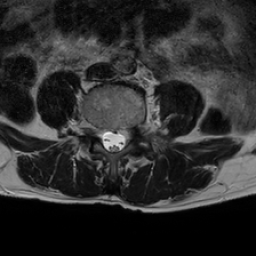CCS_normal: (109, 121, 117, 160)
LFS_normal: (126, 117, 136, 149)
LLS_normal: (117, 121, 126, 155)
RFS_normal: (92, 117, 101, 146)
RLS_normal: (101, 120, 109, 155)
